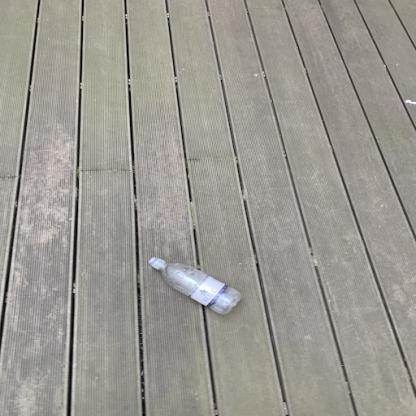trash: (148, 258, 245, 316)
